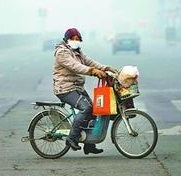person: (50, 25, 112, 154)
